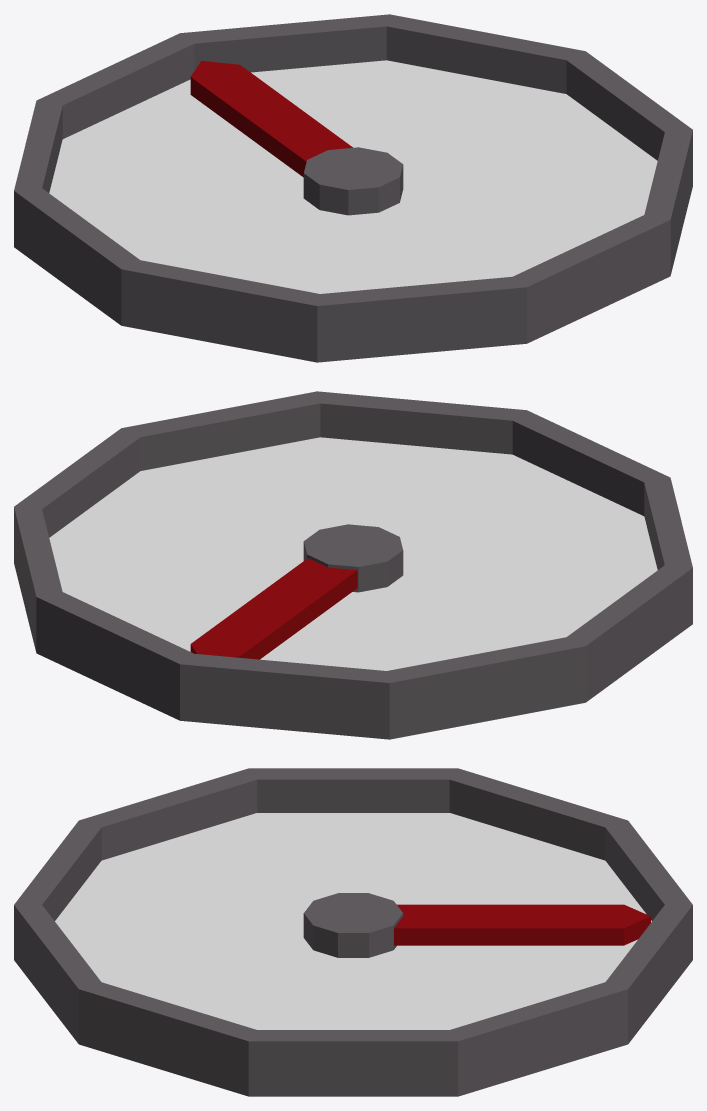
Rendered from DialBase.fbx.
3 renders of one model, top to bottom at view 1: azimuth 30°, elevation 25°; view 2: azimuth 150°, elevation 25°; view 3: azimuth 270°, elevation 25°, orthographic. The views are drawn at different scales.
Visible parts, largest first — view 1: Cylinder, Cube; view 2: Cylinder, Cube; view 3: Cylinder, Cube.
Boxes of the visible parts, x1,y1,x2,y2 form: Cylinder: (14,14,692,362); Cube: (190,60,352,177); Cylinder: (14,391,692,739); Cube: (190,558,357,659); Cylinder: (14,768,692,1096); Cube: (394,904,650,945).
Size of the model in its own units: 207 by 19.59 by 218.
